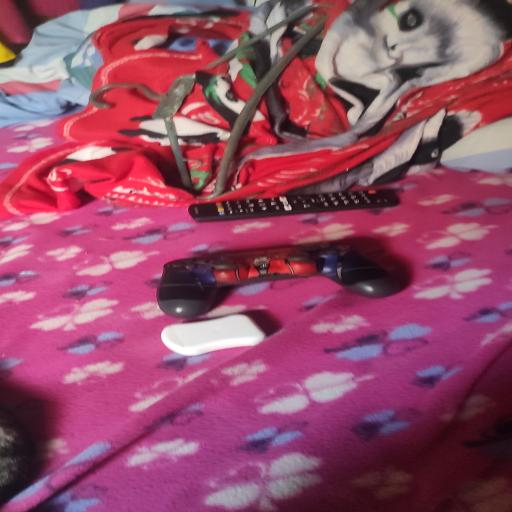ControlPlay4: (157, 244, 401, 318)
